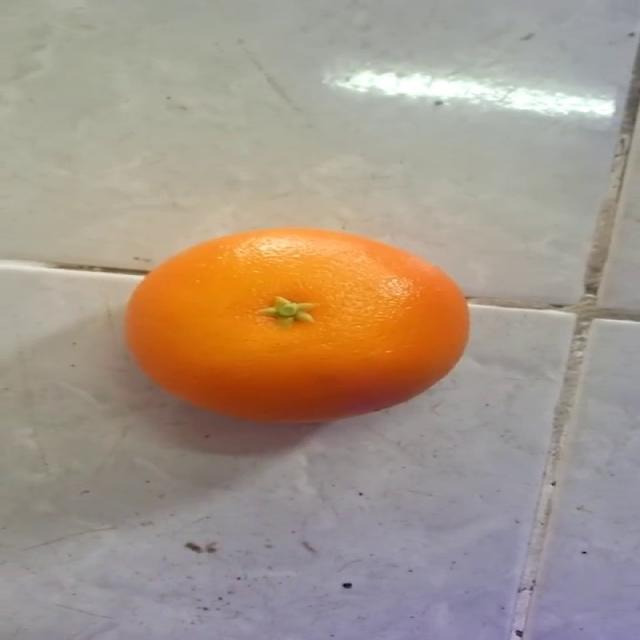Orange: (123, 224, 470, 424)
